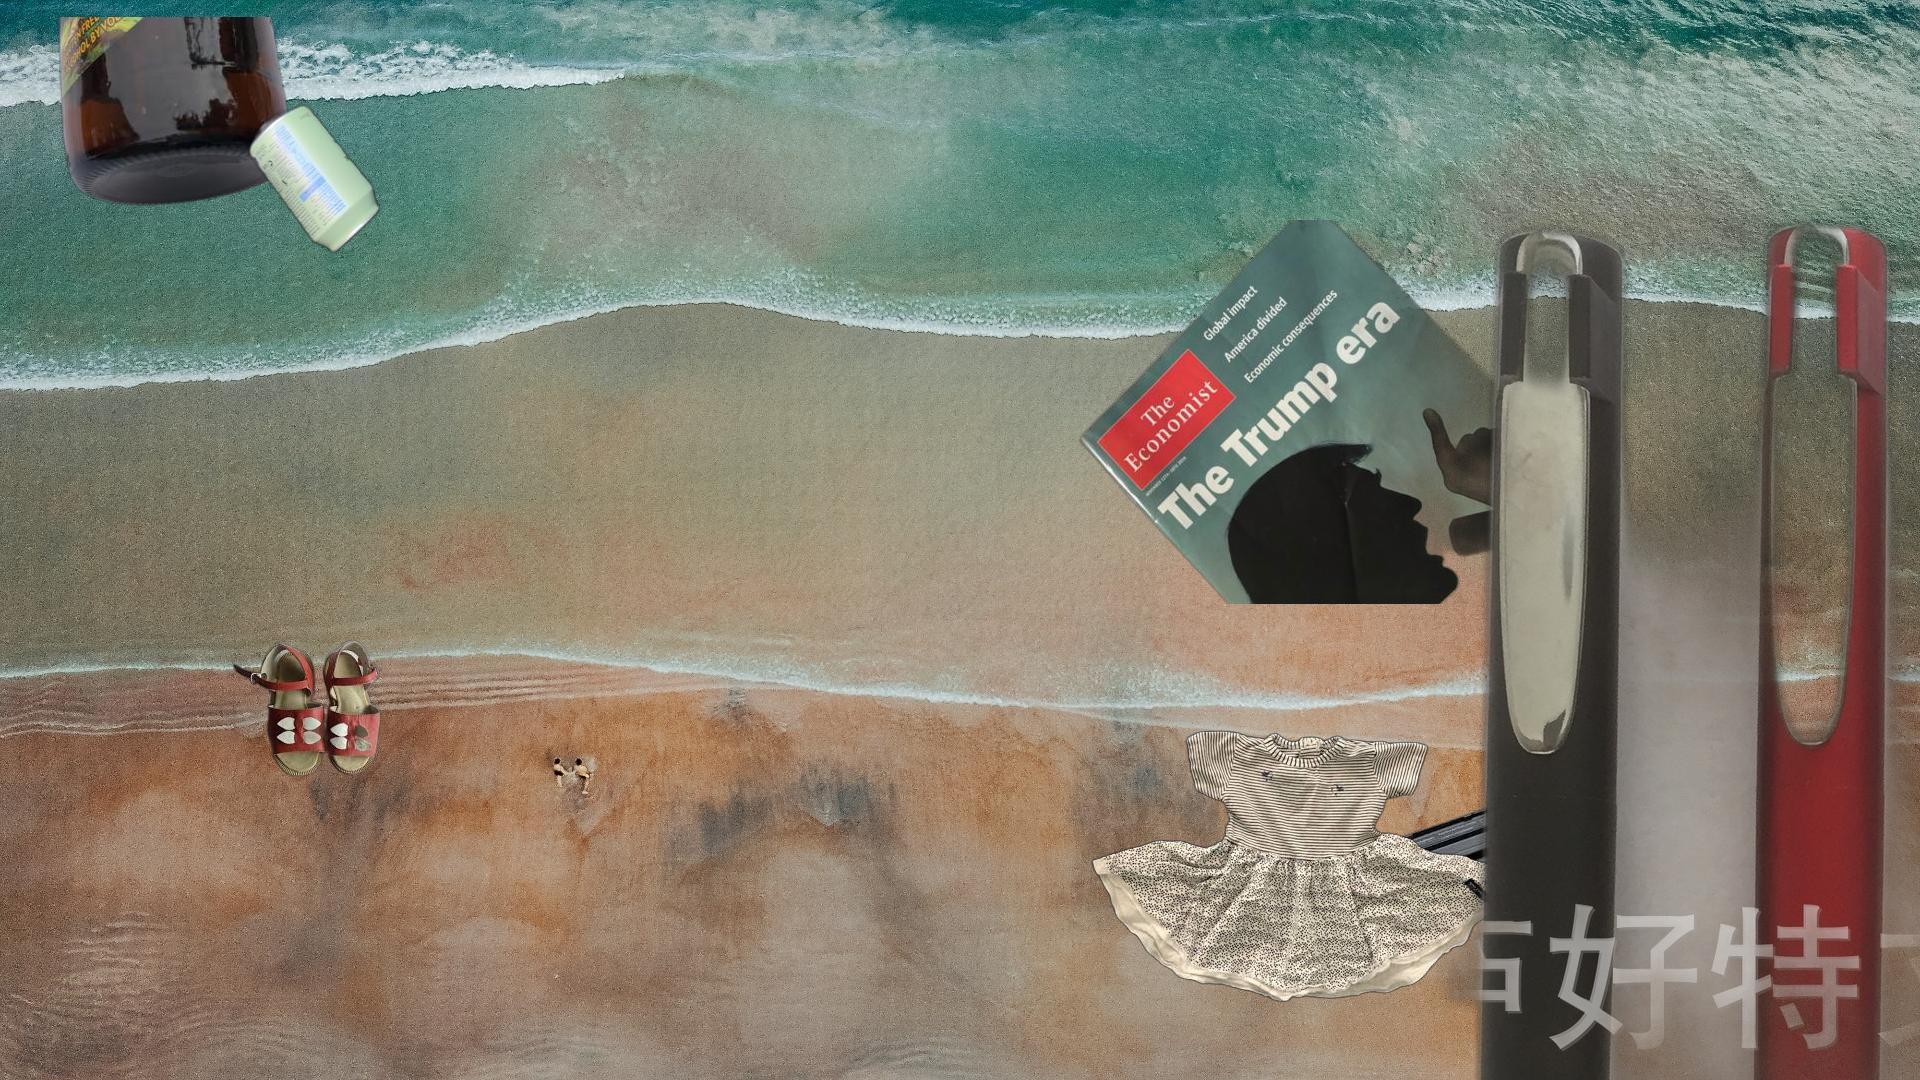battery: (1381, 750, 1692, 913)
clothes: (1088, 727, 1510, 1005)
glass: (55, 17, 295, 208)
metal-cans: (245, 99, 583, 313)
paper: (1062, 220, 1575, 604)
penholder: (1395, 204, 1920, 1080)
shoes: (229, 637, 384, 779)
